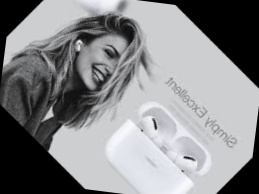earphone: (68, 31, 91, 55)
